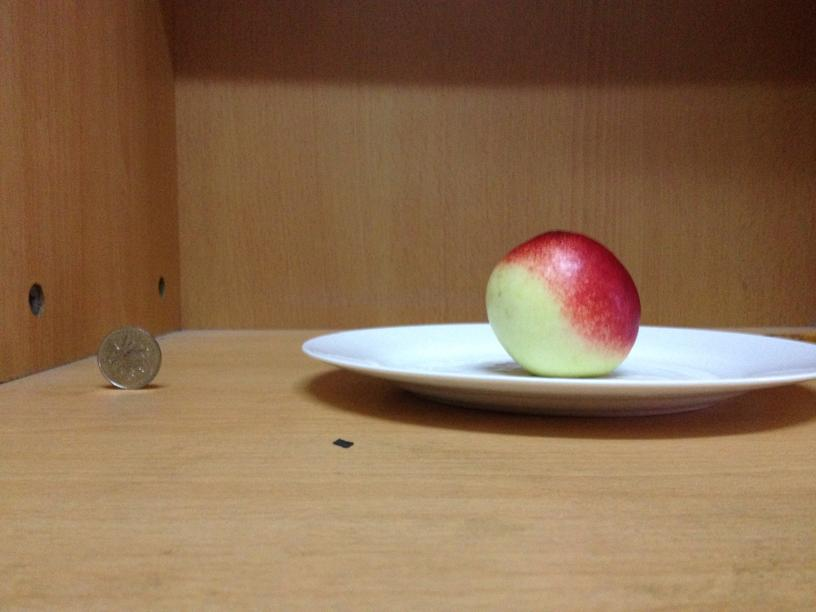coin: (96, 325, 160, 389)
peach: (482, 232, 641, 374)
